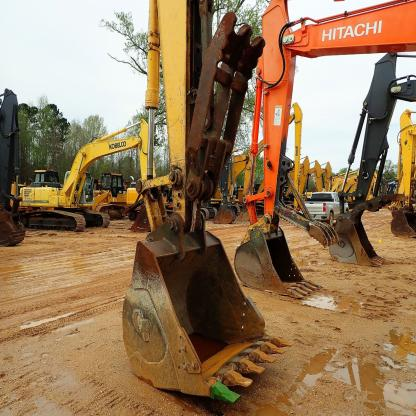excavator: (108, 0, 294, 408)
